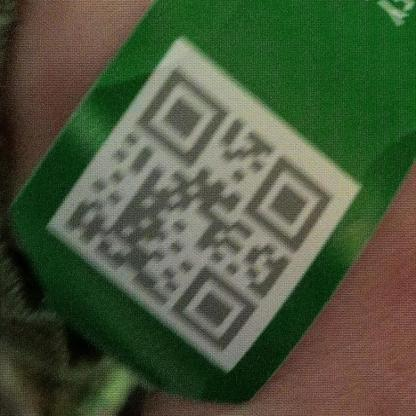qr: (65, 61, 340, 355)
